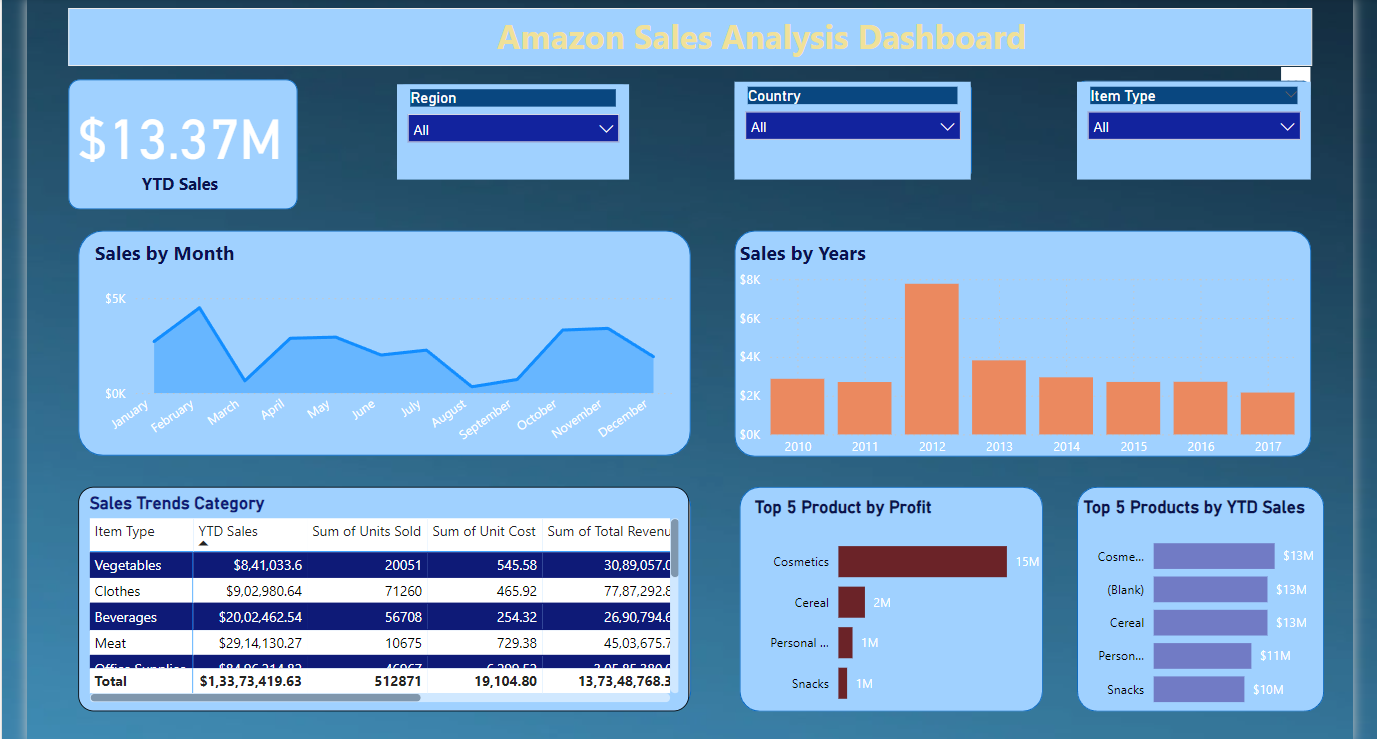

What the dashboard file says about the page in this screenshot:
{"tool":"powerbi","page":{"name":"Page 1","canvas":[1280,720],"ordinal":0},"visuals":[{"type":"shape","box":[39.8,20.6,1199.3,45],"z":0},{"type":"textbox","box":[40,10,1200,55.7],"z":1000},{"type":"shape","box":[40,78.6,221.4,125.7],"z":2000},{"type":"card","fields":{"Values":["Amazon Sales data.YTD Sales"]},"box":[40,78.6,215.7,124.3],"z":3000},{"type":"shape","box":[683.3,81.1,228.9,124.4],"z":4000},{"type":"shape","box":[357.1,82.9,224.3,124.3],"z":5000},{"type":"shape","box":[1013.3,80,225.6,125.6],"z":6000},{"type":"shape","box":[50,225,591.2,217.5],"z":7000},{"type":"areaChart","title":"Sales by Month","fields":{"Category":["Table.Month"],"Y":["Sum(Amazon Sales data.Unit Price)"]},"box":[62.7,234,566.8,208.6],"z":8000},{"type":"shape","box":[683.3,225,556.7,218.3],"z":9000},{"type":"columnChart","title":"Sales by Years","fields":{"Category":["Table.week"],"Y":["Sum(Amazon Sales data.Unit Price)"]},"box":[682.9,232.9,545.7,218.6],"z":10000},{"type":"shape","box":[50,471.7,591.7,216.7],"z":11000},{"type":"pivotTable","title":"Sales Trends Category","fields":{"Rows":["Amazon Sales data.Item Type"],"Values":["Amazon Sales data.YTD Sales1","Sum(Amazon Sales data.Units Sold)","Sum(Amazon Sales data.Unit Cost)","Sum(Amazon Sales data.Total Revenue)","Sum(Amazon Sales data.Total Cost)","Sum(Amazon Sales data.Total Profit)","Amazon Sales data.YTD Sales"]},"box":[49.4,471.6,589.7,217.1],"z":12000},{"type":"shape","box":[687.1,471.4,292.9,217.1],"z":13000},{"type":"shape","box":[1012.9,471.4,238.6,217.1],"z":14000},{"type":"clusteredBarChart","title":"Top 5 Product by Profit","fields":{"Y":["Sum(Amazon Sales data.Total Profit)"],"Category":["Amazon Sales data.Item Type"]},"box":[697.1,481.4,292.9,217.1],"z":15000},{"type":"clusteredBarChart","title":"Top 5 Products by YTD Sales","fields":{"Y":["Amazon Sales data.YTD Sales"],"Category":["Amazon Sales data.Item Type"]},"box":[1014.3,481.4,238.6,217.1],"z":16000},{"type":"slicer","fields":{"Values":["Amazon Sales data.Item Type"]},"box":[1012.9,81.4,225.7,125.7],"z":17000},{"type":"slicer","fields":{"Values":["Amazon Sales data.Country"]},"box":[682.9,81.4,228.6,122.9],"z":18000},{"type":"slicer","fields":{"Values":["Amazon Sales data.Region"]},"box":[357.1,82.9,224.3,122.9],"z":19000}]}

Visuals, with their boxes in screenshot pixels (x1, y1, x2, y2):
shape: <region>56, 11, 1314, 58</region>
textbox: <region>56, 0, 1315, 58</region>
shape: <region>56, 72, 289, 204</region>
card - Amazon Sales data.YTD Sales: <region>56, 72, 283, 202</region>
shape: <region>731, 74, 971, 205</region>
shape: <region>389, 76, 624, 207</region>
shape: <region>1077, 73, 1314, 205</region>
shape: <region>67, 225, 687, 453</region>
"Sales by Month" areaChart: <region>80, 235, 675, 454</region>
shape: <region>731, 225, 1315, 454</region>
"Sales by Years" columnChart: <region>731, 234, 1303, 463</region>
shape: <region>67, 484, 687, 711</region>
"Sales Trends Category" pivotTable: <region>66, 484, 685, 712</region>
shape: <region>735, 484, 1042, 711</region>
shape: <region>1077, 484, 1327, 711</region>
"Top 5 Product by Profit" clusteredBarChart: <region>746, 494, 1053, 722</region>
"Top 5 Products by YTD Sales" clusteredBarChart: <region>1078, 494, 1329, 722</region>
slicer - Amazon Sales data.Item Type: <region>1077, 75, 1314, 206</region>
slicer - Amazon Sales data.Country: <region>731, 75, 970, 204</region>
slicer - Amazon Sales data.Region: <region>389, 76, 624, 205</region>
